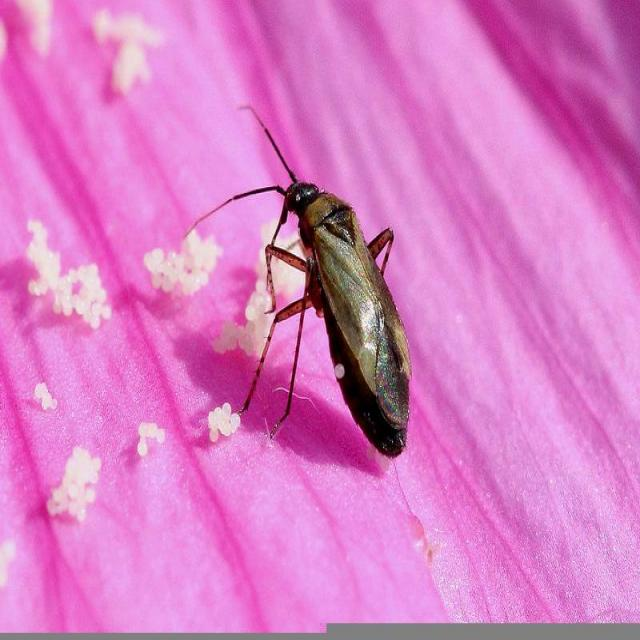Miridae-Adult-: (171, 103, 418, 468)
